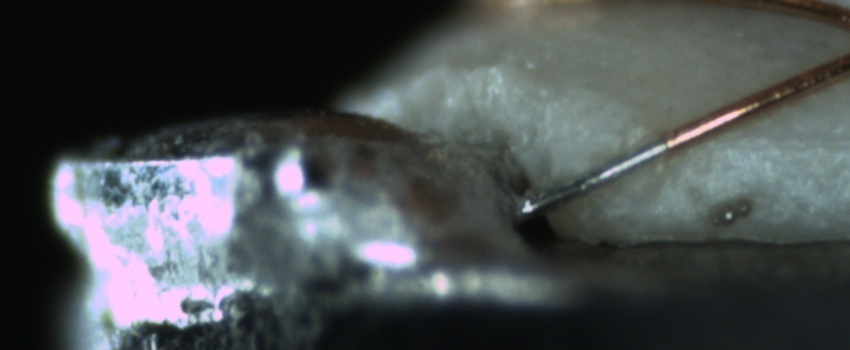DL: (712, 108, 849, 173)
TS: (520, 139, 673, 215)
